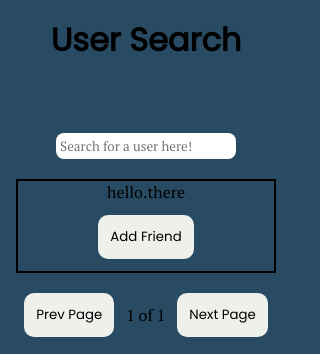
Test case: <UserSearch/> › <UserList/> › Adding friend redirects user to friendsList
Click the button "Add Friend" at (146, 237), box [98,215,194,259]
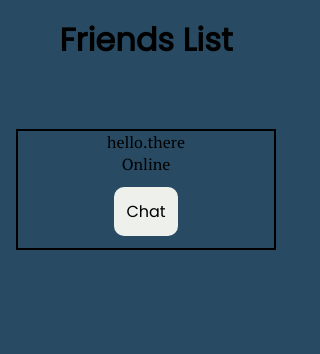
Expected: the text "hello.there" is shown, [107,131,185,153]
Result: the heading "Friends List" is shown at [59,16,233,64]
